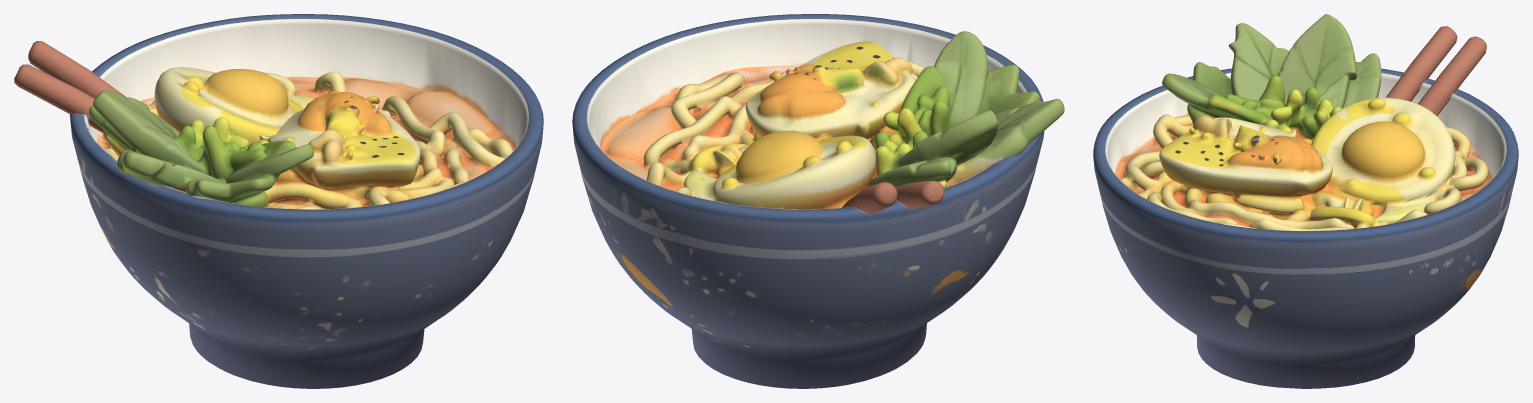
File: ramen-3.glb
3 renders of one model, left to right at view 1: azimuth 30°, elevation 25°; view 2: azimuth 150°, elevation 25°; view 3: azimuth 270°, elevation 25°, orthographic. The views are drawn at different scales.
Visible parts, largest first — view 1: tripo_node_dad59c02-016b-4856-95cf-db54f3b25a2d; view 2: tripo_node_dad59c02-016b-4856-95cf-db54f3b25a2d; view 3: tripo_node_dad59c02-016b-4856-95cf-db54f3b25a2d.
Part boxes in pixels (left/top/right/bottom): tripo_node_dad59c02-016b-4856-95cf-db54f3b25a2d: left=14, top=14, right=543, bottom=388; tripo_node_dad59c02-016b-4856-95cf-db54f3b25a2d: left=572, top=14, right=1064, bottom=388; tripo_node_dad59c02-016b-4856-95cf-db54f3b25a2d: left=1093, top=14, right=1518, bottom=388.
Size of the model in its own units: 0.9995 by 0.6431 by 0.9927.
1 material, 1 textured.
